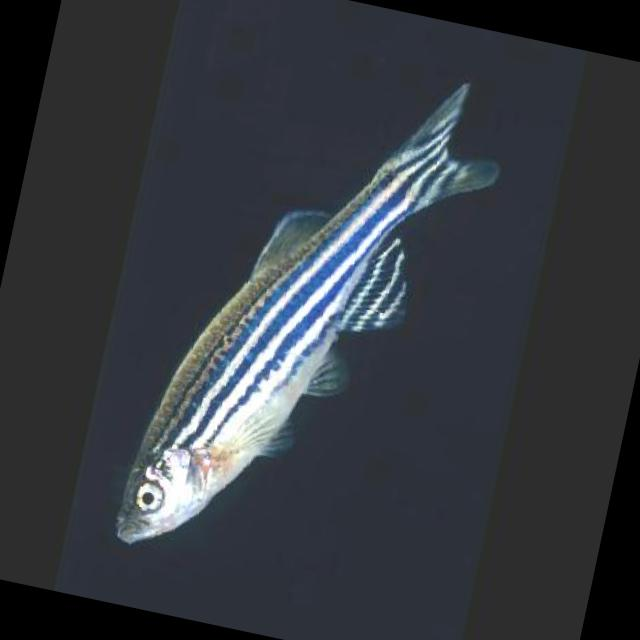ZebraFish: (109, 32, 504, 598)
